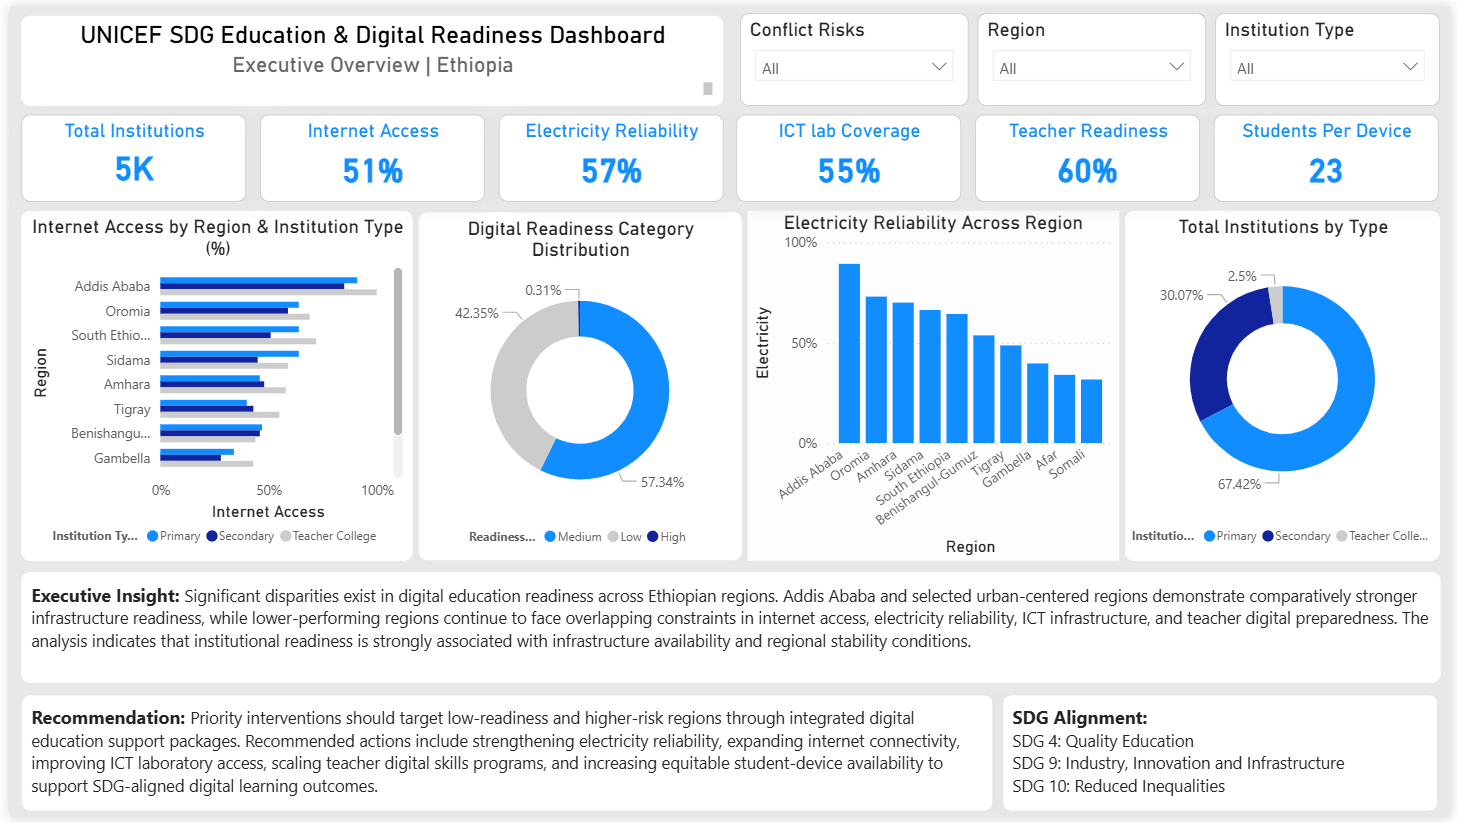

What the dashboard file says about the page in this screenshot:
{"tool":"powerbi","page":{"name":"Executive Overview","canvas":[1280,720],"ordinal":0},"visuals":[{"type":"textbox","title":"UNICEF SDG Education & Digital Readiness Dashboard ","box":[10,7.5,623.8,80],"z":0},{"type":"clusteredBarChart","title":"Internet Access by Region & Institution Type (%)","fields":{"Category":["education_readiness.Region"],"Series":["education_readiness.Institution Type Short"],"Y":["education_readiness.Avg Internet Access %"]},"box":[10,181,348.1,311.2],"z":0,"group":"g2"},{"type":"group","id":"g1","title":"Group 3","box":[648.7,5.3,622.2,82.2],"z":1000},{"type":"card","title":"Total Institutions","fields":{"Values":["education_readiness.Total Institutions"]},"box":[10,95,200,77.5],"z":1000,"group":"g3"},{"type":"clusteredColumnChart","title":"Electricity Reliability Across Region","fields":{"Category":["education_readiness.Region"],"Y":["education_readiness.Avg Electricity %"]},"box":[655.5,181,330.3,311.2],"z":1000,"group":"g2"},{"type":"card","title":"Internet Access","fields":{"Values":["education_readiness.Avg Internet Access %"]},"box":[222,95,200,77.5],"z":2000,"group":"g3"},{"type":"group","id":"g2","title":"Group 2","box":[10,181,1261.2,311.2],"z":2000},{"type":"donutChart","title":"Total Institutions by Type","fields":{"Category":["education_readiness.Institution Type Short"],"Y":["education_readiness.Total Institutions"]},"box":[991,181,280.3,311.2],"z":2000,"group":"g2"},{"type":"slicer","title":"Region","fields":{"Values":["education_readiness.Region"]},"box":[859.8,5.3,203.3,82.2],"z":3000,"group":"g1"},{"type":"card","title":"Electricity Reliability","fields":{"Values":["education_readiness.Avg Electricity %"]},"box":[434,95,200,77.5],"z":3000,"group":"g3"},{"type":"donutChart","title":"Digital Readiness Category Distribution","fields":{"Y":["education_readiness.Total Institutions"],"Category":["education_readiness.Readiness Category Short"]},"box":[363.3,181.7,287,309.9],"z":3000,"group":"g2"},{"type":"textbox","title":"Recommendation Box","box":[10,611.2,863.8,103.8],"z":3000,"group":"g4"},{"type":"slicer","title":"Institution Type","fields":{"Values":["education_readiness.Institution_Type"]},"box":[1070.9,5.3,200,82.2],"z":4000,"group":"g1"},{"type":"card","title":"ICT lab Coverage","fields":{"Values":["education_readiness.Avg ICT Lab %"]},"box":[646,95,200,77.5],"z":4000,"group":"g3"},{"type":"textbox","title":"Executive Insight","box":[10,502.5,1261.2,98.8],"z":4000},{"type":"group","id":"g3","title":"Group 1","box":[10,95,1260,77.5],"z":5000},{"type":"card","title":"Teacher Readiness","fields":{"Values":["education_readiness.Avg Teacher Readiness %"]},"box":[858,95,200,77.5],"z":5000,"group":"g3"},{"type":"card","title":"Students Per Device","fields":{"Values":["education_readiness.Avg Student Device Ratio"]},"box":[1070,95,200,77.5],"z":6000,"group":"g3"},{"type":"textbox","title":"Recommendation Box","box":[882.5,611.2,387.5,103.8],"z":6000,"group":"g4"},{"type":"slicer","title":"Conflict Risks","fields":{"Values":["education_readiness.Conflict_Risk"]},"box":[648.7,5.3,203.3,82.2],"z":6001,"group":"g1"},{"type":"group","id":"g4","title":"Group 4","box":[10,611.2,1260,103.8],"z":6001}]}

Visuals, with their boxes in screenshot pixels (x1, y1, x2, y2), scaled from the page's 1280x720 canvas onto the 1457x823 screenshot:
"UNICEF SDG Education & Digital Readiness Dashboard " textbox: bbox=[11, 9, 721, 100]
"Internet Access by Region & Institution Type (%)" clusteredBarChart: bbox=[11, 207, 408, 563]
"Group 3" group: bbox=[738, 6, 1447, 100]
"Total Institutions" card: bbox=[11, 109, 239, 197]
"Electricity Reliability Across Region" clusteredColumnChart: bbox=[746, 207, 1122, 563]
"Internet Access" card: bbox=[253, 109, 480, 197]
"Group 2" group: bbox=[11, 207, 1447, 563]
"Total Institutions by Type" donutChart: bbox=[1128, 207, 1447, 563]
"Region" slicer: bbox=[979, 6, 1210, 100]
"Electricity Reliability" card: bbox=[494, 109, 722, 197]
"Digital Readiness Category Distribution" donutChart: bbox=[414, 208, 740, 562]
"Recommendation Box" textbox: bbox=[11, 699, 995, 817]
"Institution Type" slicer: bbox=[1219, 6, 1447, 100]
"ICT lab Coverage" card: bbox=[735, 109, 963, 197]
"Executive Insight" textbox: bbox=[11, 574, 1447, 687]
"Group 1" group: bbox=[11, 109, 1446, 197]
"Teacher Readiness" card: bbox=[977, 109, 1204, 197]
"Students Per Device" card: bbox=[1218, 109, 1446, 197]
"Recommendation Box" textbox: bbox=[1005, 699, 1446, 817]
"Conflict Risks" slicer: bbox=[738, 6, 970, 100]
"Group 4" group: bbox=[11, 699, 1446, 817]
